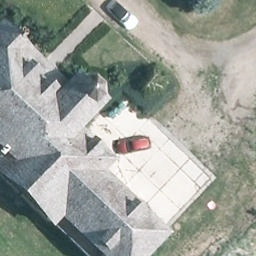car: (106, 0, 141, 31), (112, 136, 152, 154)
